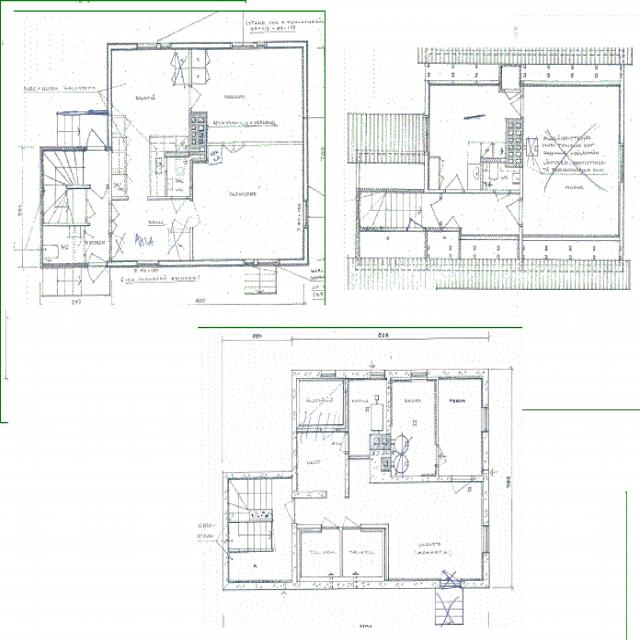door: (451, 475, 472, 508), (499, 200, 524, 224), (88, 260, 106, 290), (88, 236, 106, 266), (87, 122, 105, 152), (274, 500, 297, 522), (444, 166, 462, 194), (321, 502, 338, 530), (434, 444, 454, 466), (422, 202, 442, 224), (343, 503, 359, 530), (328, 433, 349, 453), (190, 87, 210, 108), (90, 185, 107, 209), (172, 196, 188, 220), (84, 233, 102, 254), (443, 208, 458, 231), (108, 201, 126, 220), (494, 190, 509, 212), (506, 97, 524, 115), (407, 210, 421, 232), (85, 200, 102, 218), (504, 89, 518, 110), (108, 220, 122, 233), (224, 142, 234, 158), (234, 142, 244, 158)
